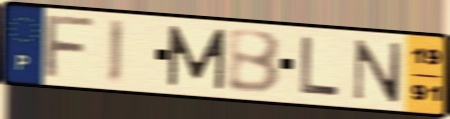B: (225, 29, 284, 97)
F: (42, 13, 100, 81)
I: (106, 17, 127, 87)
L: (298, 34, 343, 100)
M: (166, 23, 228, 92)
N: (350, 37, 404, 105)
